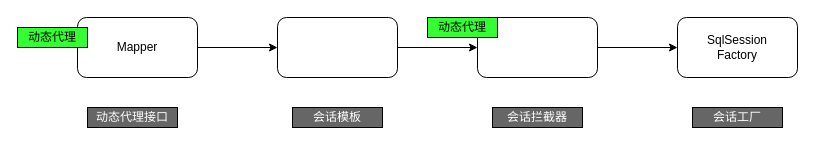
This 815x145 diagram has some shape labels left out. Here are the shapes that lost their labels. From the top down, the centre of each, then its label:
At (337,47): "SqlSessionTemplate".
At (537,47): "SqlSession Interceptor".
